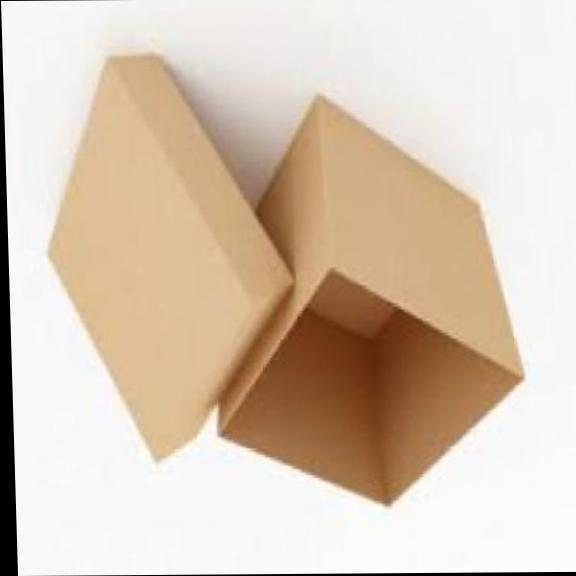Kertas: (219, 98, 522, 503), (48, 56, 289, 458)
